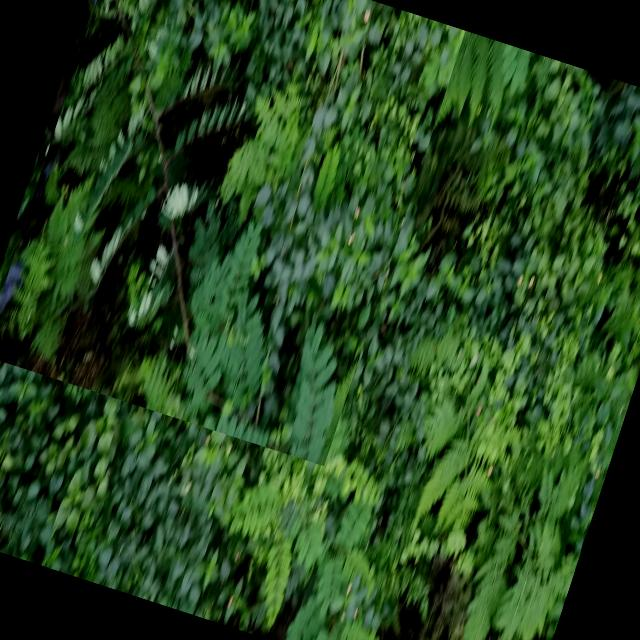Mysore-Thorn-Weed: (0, 0, 465, 466)
